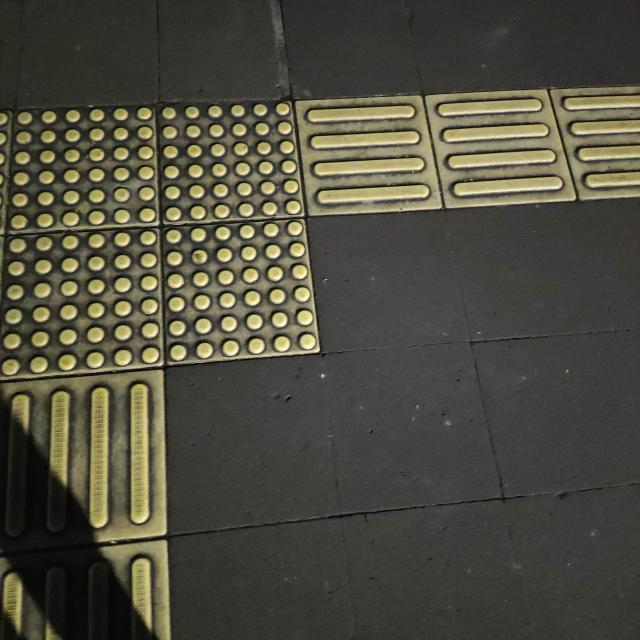kanan: (0, 52, 537, 532)
